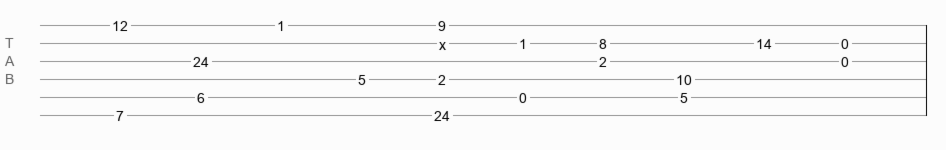0: (519, 90, 527, 100), (841, 36, 849, 46), (841, 54, 849, 64)
1: (277, 18, 285, 28), (519, 36, 527, 46)
10: (676, 72, 692, 82)
12: (112, 18, 128, 28)
14: (756, 36, 772, 46)
2: (438, 72, 446, 82), (599, 54, 607, 64)
24: (193, 54, 209, 64), (434, 108, 450, 118)
5: (358, 72, 366, 82), (680, 90, 688, 100)
6: (197, 90, 205, 100)
7: (116, 108, 124, 118)
8: (599, 36, 607, 46)
9: (438, 18, 446, 28)
x: (439, 37, 446, 45)
